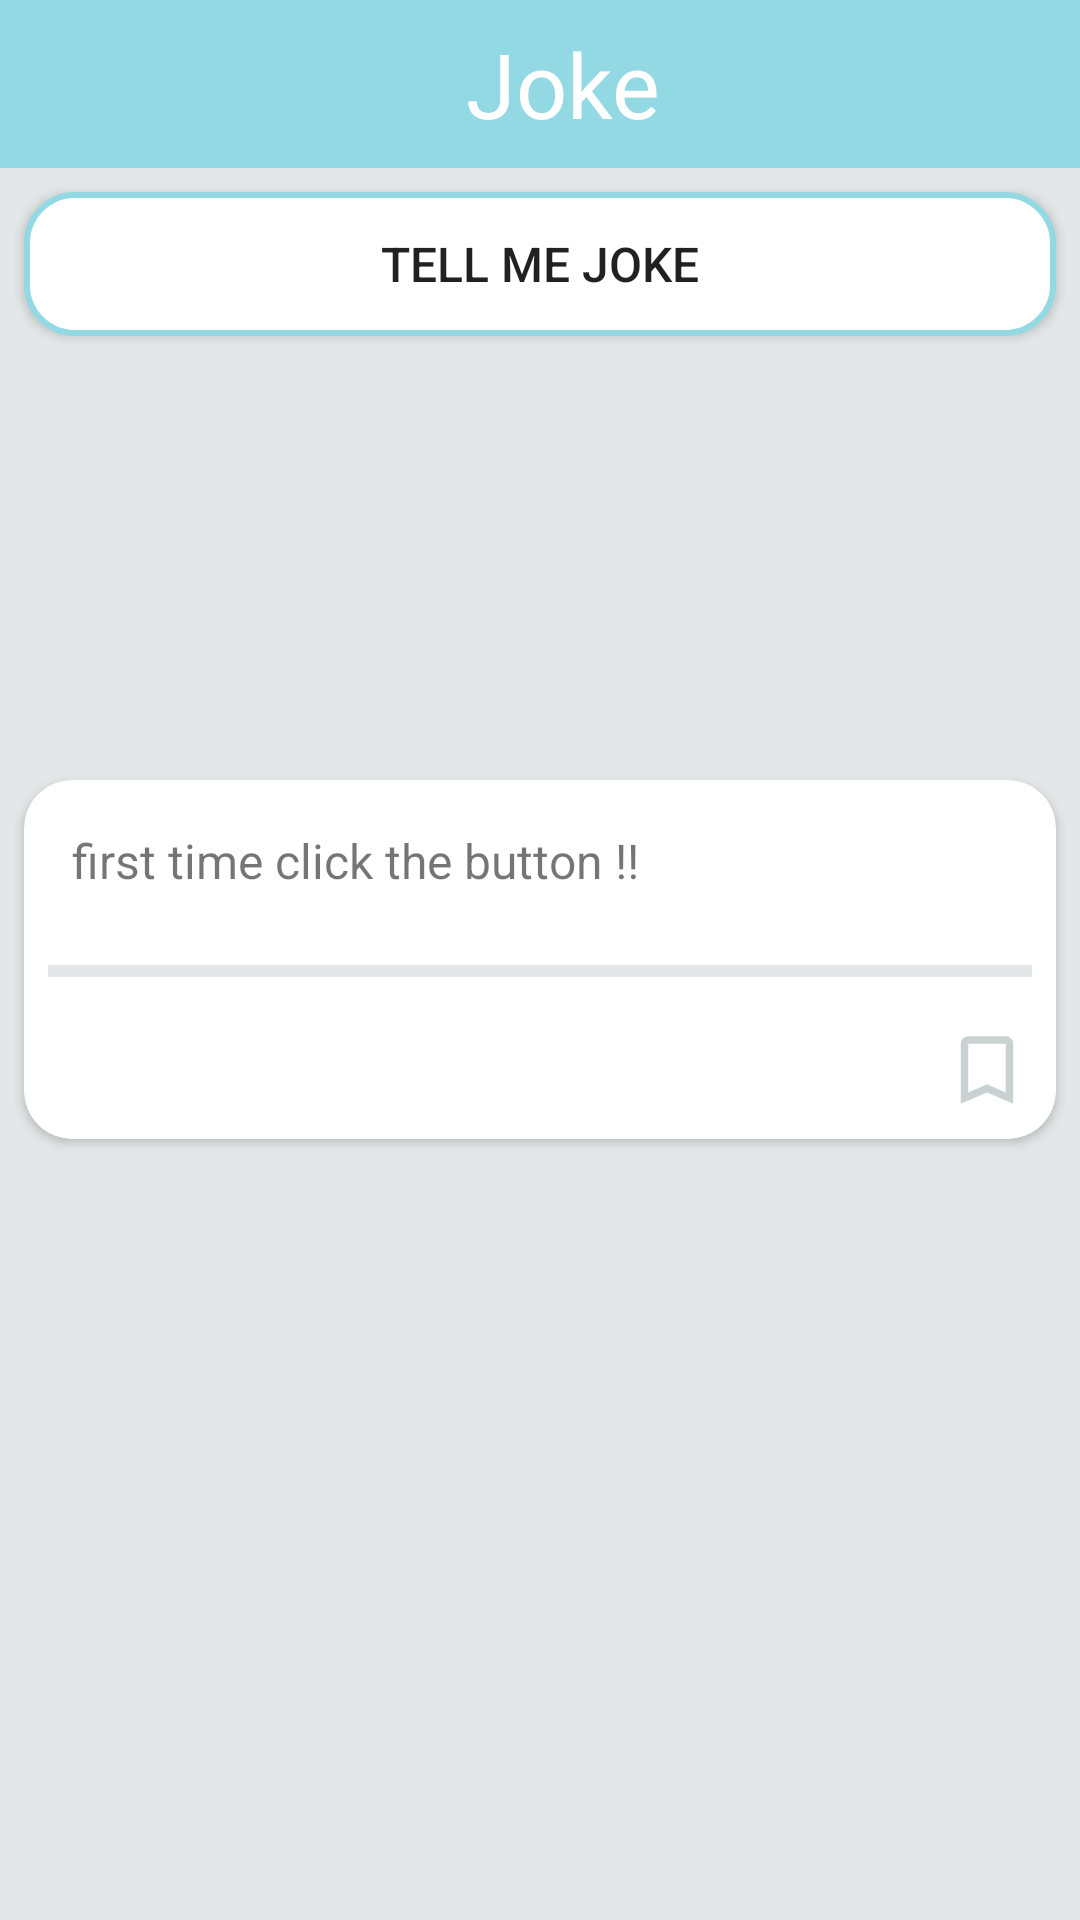

Named icons in this screenshot (1080x1920) and their bounding boxes, (x1, y1, x2, y2):
bookmark border: (961, 1036, 1013, 1103)
